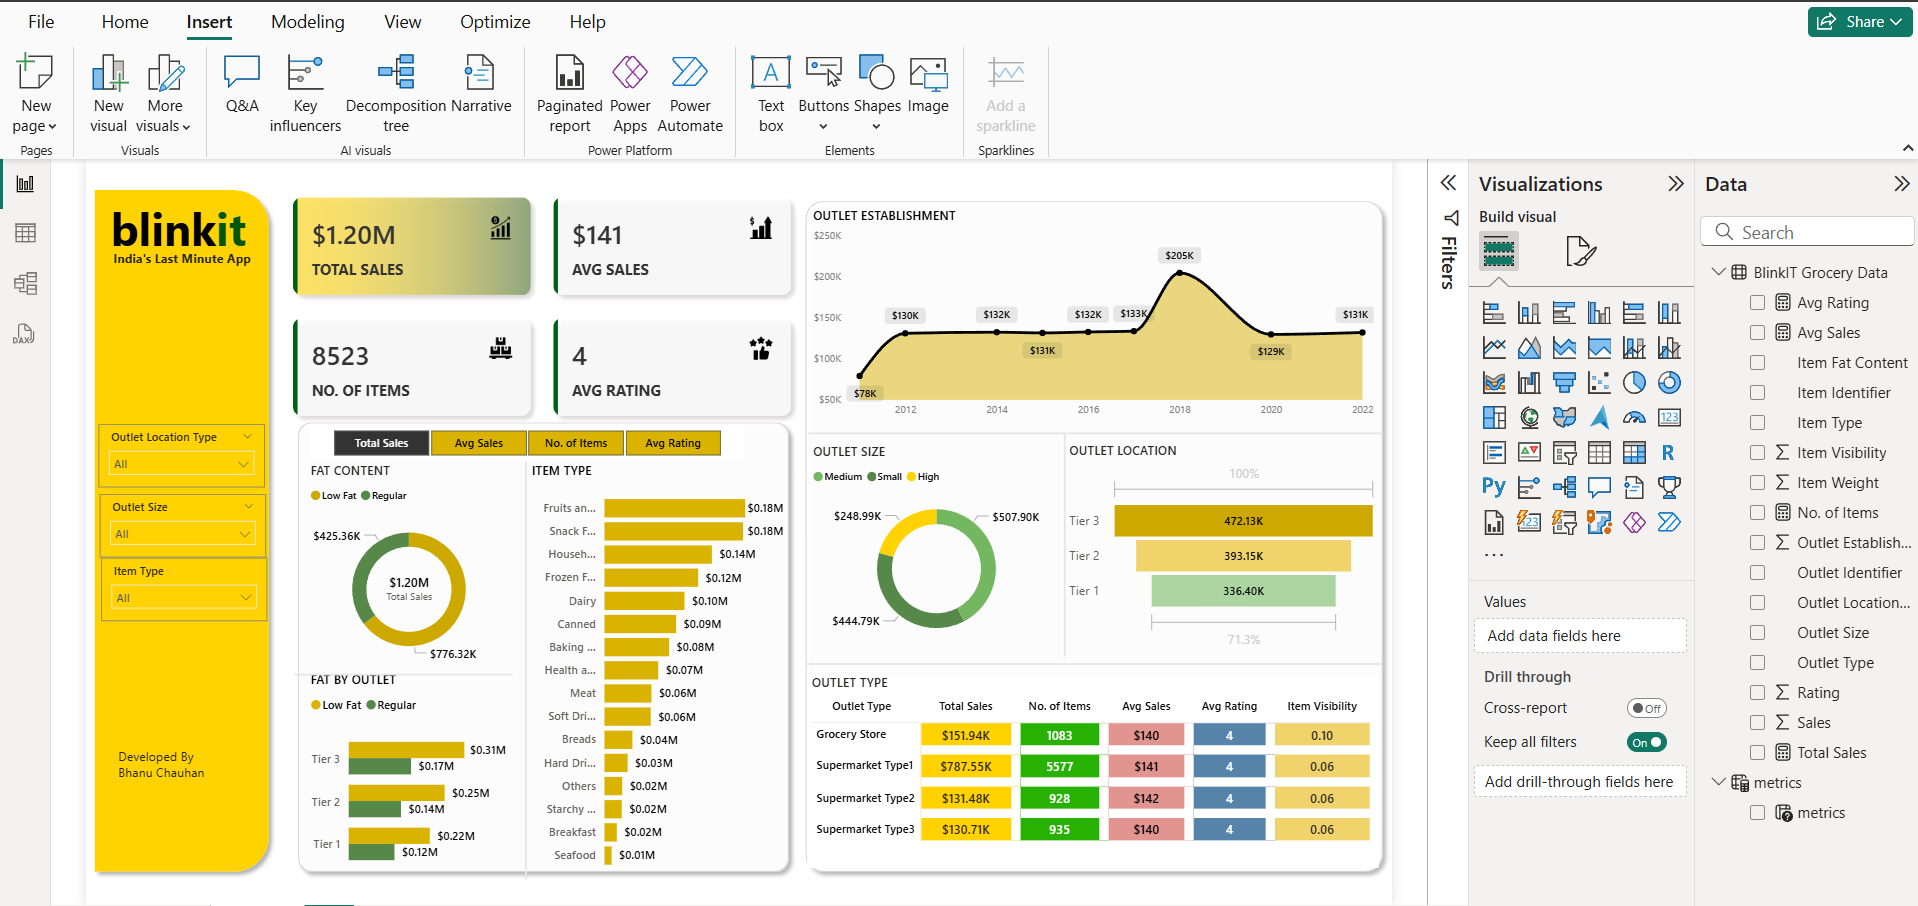

This screenshot's page, from the dashboard's own definition file:
{"tool":"powerbi","page":{"name":"Page 1","canvas":[1400,800],"ordinal":0},"visuals":[{"type":"shape","box":[0,24.1,205.1,749.3],"z":0},{"type":"textbox","box":[12.1,36.2,174.3,84.5],"z":1000},{"type":"textbox","box":[16.1,92.5,174.3,28.2],"z":2000},{"type":"cardVisual","fields":{"Data":["BlinkIT Grocery Data.Total Sales","BlinkIT Grocery Data.Avg Sales","BlinkIT Grocery Data.No. of Items","BlinkIT Grocery Data.Avg Rating"]},"box":[205.1,24.1,569.7,269.4],"z":3000},{"type":"shape","box":[218.5,273.5,544.2,500],"z":4000},{"type":"donutChart","title":"FAT CONTENT","fields":{"Y":["BlinkIT Grocery Data.Total Sales"],"Category":["BlinkIT Grocery Data.Item Fat Content"]},"box":[235.9,324.4,221.2,229.2],"z":5000},{"type":"slicer","fields":{"Values":["metrics.metrics"]},"box":[239.9,284.2,465.1,40.2],"z":6000},{"type":"cardVisual","fields":{"Data":["BlinkIT Grocery Data.Total Sales"]},"box":[300.3,427.6,93.8,64.3],"z":7000},{"type":"clusteredBarChart","title":"FAT BY OUTLET","fields":{"Y":["BlinkIT Grocery Data.Total Sales"],"Category":["BlinkIT Grocery Data.Outlet Location Type"],"Series":["BlinkIT Grocery Data.Item Fat Content"]},"box":[235.9,548.3,219.8,229.2],"z":8000},{"type":"shape","box":[223.9,544.2,233.2,17.4],"z":9000},{"type":"shape","box":[457.1,324.4,29.5,447.7],"z":10000},{"type":"barChart","title":"ITEM TYPE","fields":{"Y":["BlinkIT Grocery Data.Total Sales"],"Category":["BlinkIT Grocery Data.Item Type"]},"box":[473.2,324.4,280.2,447.7],"z":11000},{"type":"shape","box":[762.7,36.2,636.7,737.3],"z":12000},{"type":"lineChart","title":"OUTLET ESTABLISHMENT","fields":{"Y":["BlinkIT Grocery Data.Total Sales"],"Category":["BlinkIT Grocery Data.Outlet Establishment Year"]},"box":[774.8,50.9,611.3,234.6],"z":13000},{"type":"shape","box":[774.8,285.5,615.3,17.4],"z":14000},{"type":"donutChart","title":"OUTLET SIZE","fields":{"Y":["BlinkIT Grocery Data.Total Sales"],"Category":["BlinkIT Grocery Data.Outlet Size"]},"box":[774.8,304.3,274.8,225.2],"z":15000},{"type":"shape","box":[1034.9,293.6,29.5,239.9],"z":16000},{"type":"funnel","title":"OUTLET LOCATION","fields":{"Y":["Sum(BlinkIT Grocery Data.Sales)"],"Category":["BlinkIT Grocery Data.Outlet Location Type"]},"box":[1049.6,303,340.5,227.9],"z":17000},{"type":"shape","box":[772.1,530.8,618,21.4],"z":18000},{"type":"pivotTable","title":"OUTLET TYPE","fields":{"Rows":["BlinkIT Grocery Data.Outlet Type"],"Values":["BlinkIT Grocery Data.Total Sales","BlinkIT Grocery Data.No. of Items","BlinkIT Grocery Data.Avg Sales","BlinkIT Grocery Data.Avg Rating","Avg(BlinkIT Grocery Data.Item Visibility)"]},"box":[773.5,552.3,612.6,207.8],"z":19000},{"type":"slicer","fields":{"Values":["BlinkIT Grocery Data.Outlet Location Type"]},"box":[13.4,284.2,178.3,68.4],"z":20000},{"type":"slicer","fields":{"Values":["BlinkIT Grocery Data.Outlet Size"]},"box":[14.7,359.3,178.3,68.4],"z":21000},{"type":"slicer","fields":{"Values":["BlinkIT Grocery Data.Item Type"]},"box":[16.1,427.6,178.3,68.4],"z":22000},{"type":"textbox","box":[29.5,626,118,63],"z":23000}]}

Visuals, with their boxes on the page's 1400x800 design canvas (x1, y1, x2, y2). These are canvas units, not pixel positions in the 1918x906 screenshot, which may show the page scaled, cropped or inside an application window:
shape: [left=0, top=24, right=205, bottom=773]
textbox: [left=12, top=36, right=186, bottom=121]
textbox: [left=16, top=92, right=190, bottom=121]
cardVisual - BlinkIT Grocery Data.Total Sales x BlinkIT Grocery Data.Avg Sales: [left=205, top=24, right=775, bottom=294]
shape: [left=218, top=274, right=763, bottom=774]
"FAT CONTENT" donutChart: [left=236, top=324, right=457, bottom=554]
slicer - metrics.metrics: [left=240, top=284, right=705, bottom=324]
cardVisual - BlinkIT Grocery Data.Total Sales: [left=300, top=428, right=394, bottom=492]
"FAT BY OUTLET" clusteredBarChart: [left=236, top=548, right=456, bottom=778]
shape: [left=224, top=544, right=457, bottom=562]
shape: [left=457, top=324, right=487, bottom=772]
"ITEM TYPE" barChart: [left=473, top=324, right=753, bottom=772]
shape: [left=763, top=36, right=1399, bottom=774]
"OUTLET ESTABLISHMENT" lineChart: [left=775, top=51, right=1386, bottom=286]
shape: [left=775, top=286, right=1390, bottom=303]
"OUTLET SIZE" donutChart: [left=775, top=304, right=1050, bottom=530]
shape: [left=1035, top=294, right=1064, bottom=534]
"OUTLET LOCATION" funnel: [left=1050, top=303, right=1390, bottom=531]
shape: [left=772, top=531, right=1390, bottom=552]
"OUTLET TYPE" pivotTable: [left=774, top=552, right=1386, bottom=760]
slicer - BlinkIT Grocery Data.Outlet Location Type: [left=13, top=284, right=192, bottom=353]
slicer - BlinkIT Grocery Data.Outlet Size: [left=15, top=359, right=193, bottom=428]
slicer - BlinkIT Grocery Data.Item Type: [left=16, top=428, right=194, bottom=496]
textbox: [left=30, top=626, right=148, bottom=689]
